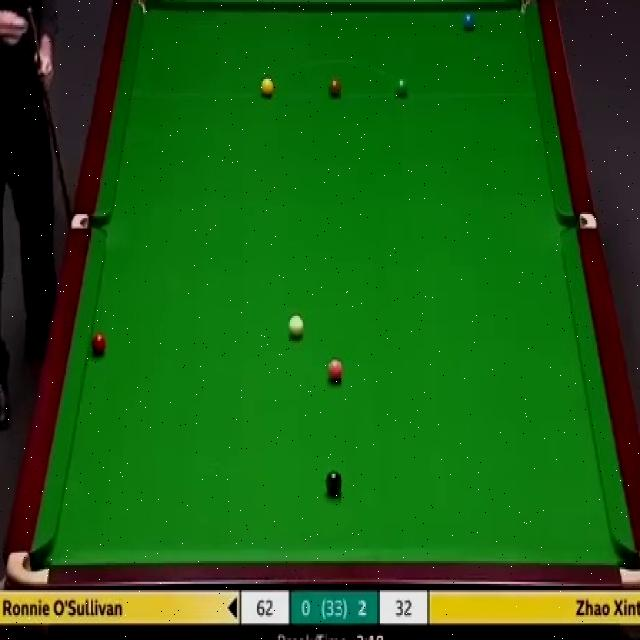black-ball: (326, 468, 340, 496)
blue-ball: (461, 12, 477, 32)
brown-ball: (328, 79, 342, 96)
green-ball: (395, 75, 409, 99)
pink-ball: (326, 356, 344, 389)
red-ball: (91, 332, 107, 356)
white-ball: (288, 317, 306, 345)
yellow-ball: (260, 76, 274, 97)
